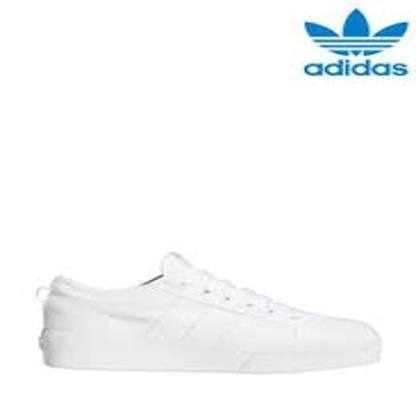not trash: (39, 251, 380, 377)
